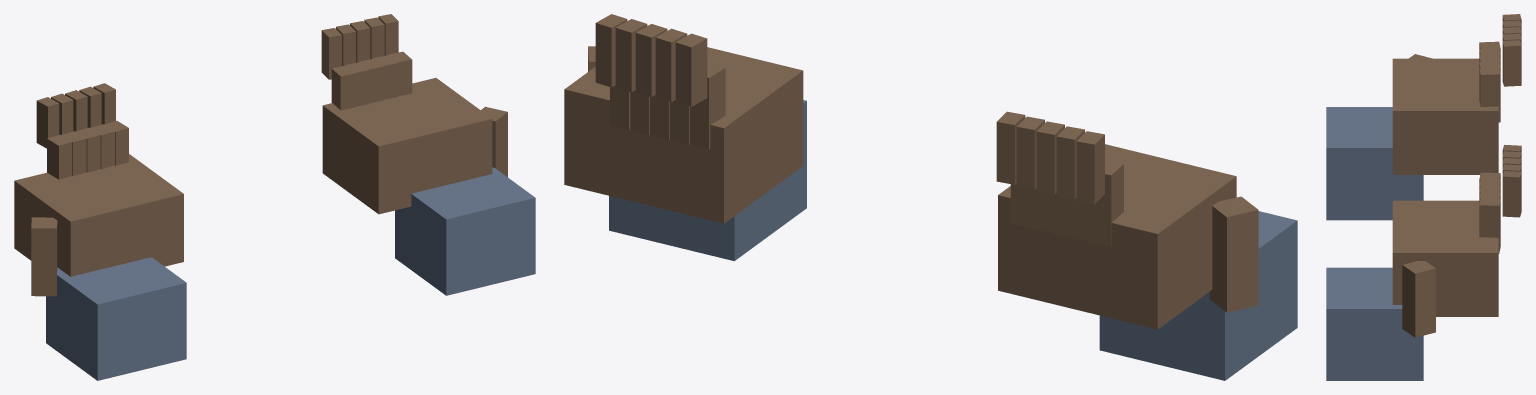
Rendered from fps_hands_rework.glb.
The picture shows the model from 3 angles, left to right: view 1: azimuth 30°, elevation 25°; view 2: azimuth 150°, elevation 25°; view 3: azimuth 270°, elevation 25°; orthographic projection. The views are drawn at different scales.
Parts seen in each view (by area): view 1: right_palm, left_palm, left_wrist, right_wrist, finger_a (×10), finger_b (×10), thumb (×2); view 2: left_palm, right_palm, finger_b (×10), left_wrist, finger_a (×10), right_wrist, thumb; view 3: left_palm, right_palm, right_wrist, left_wrist, thumb, finger_b (×2), finger_a (×2).
Part boxes in pixels (x1,y1,x2,y2): right_palm: (322,78,492,214); left_palm: (14,154,183,276); left_wrist: (46,257,186,380); right_wrist: (395,167,535,295); finger_a (×10): (47,51,412,179); finger_b (×10): (36,14,398,148); thumb (×2): (31,106,507,296); left_palm: (998,144,1236,329); right_palm: (564,47,803,223); finger_b (×10): (595,14,1104,204); left_wrist: (1099,211,1297,380); finger_a (×10): (610,62,1123,246); right_wrist: (609,100,806,261); thumb: (1210,196,1258,312); left_palm: (1392,58,1498,174); right_palm: (1392,200,1498,316); right_wrist: (1326,267,1423,380); left_wrist: (1326,107,1423,220); thumb: (1402,261,1435,337); finger_b (×2): (1502,40,1521,217); finger_a (×2): (1479,68,1500,253).
Bounding box in the file's own units: 1.18 × 0.46 × 0.4417.
